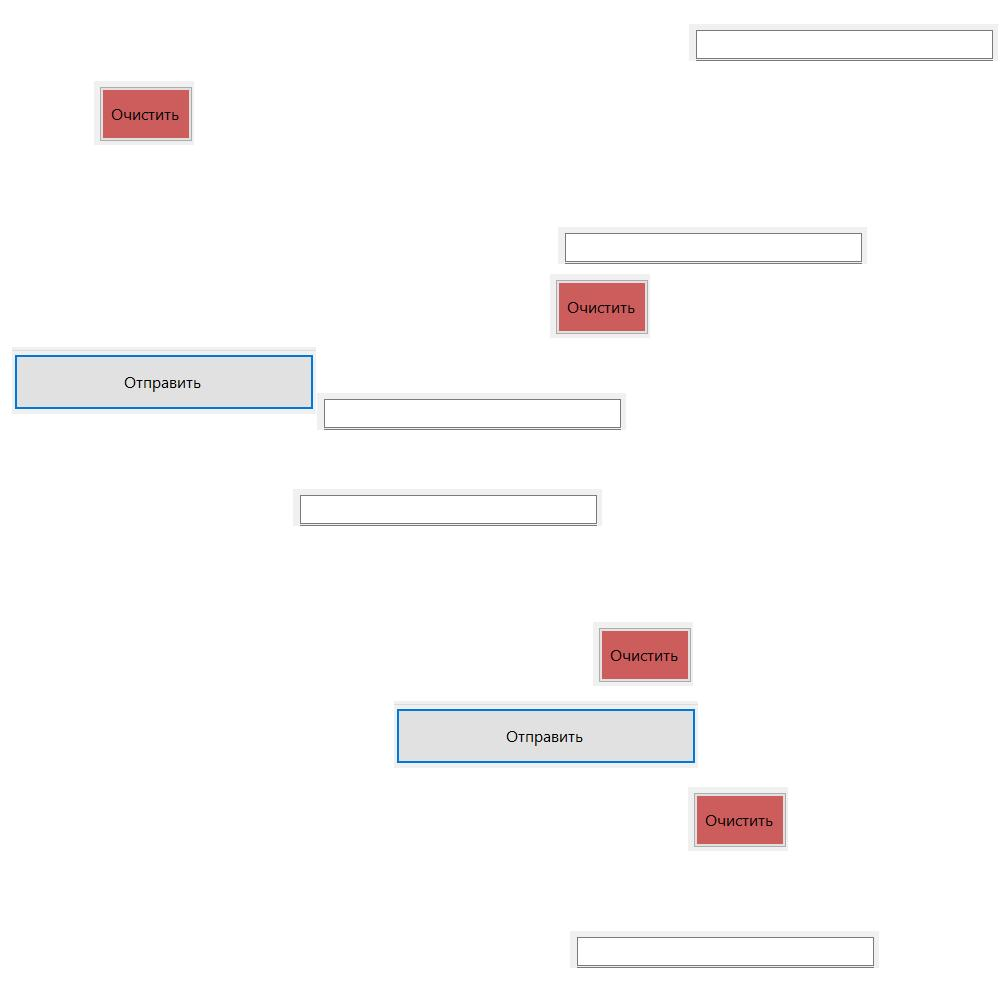Button: (394, 701, 698, 768), (12, 347, 316, 414), (688, 787, 788, 851), (94, 81, 194, 145), (550, 274, 650, 338), (593, 622, 693, 686)
EditText-: (570, 931, 879, 968), (293, 489, 602, 526), (558, 227, 867, 264), (689, 24, 998, 61), (317, 393, 626, 430)
